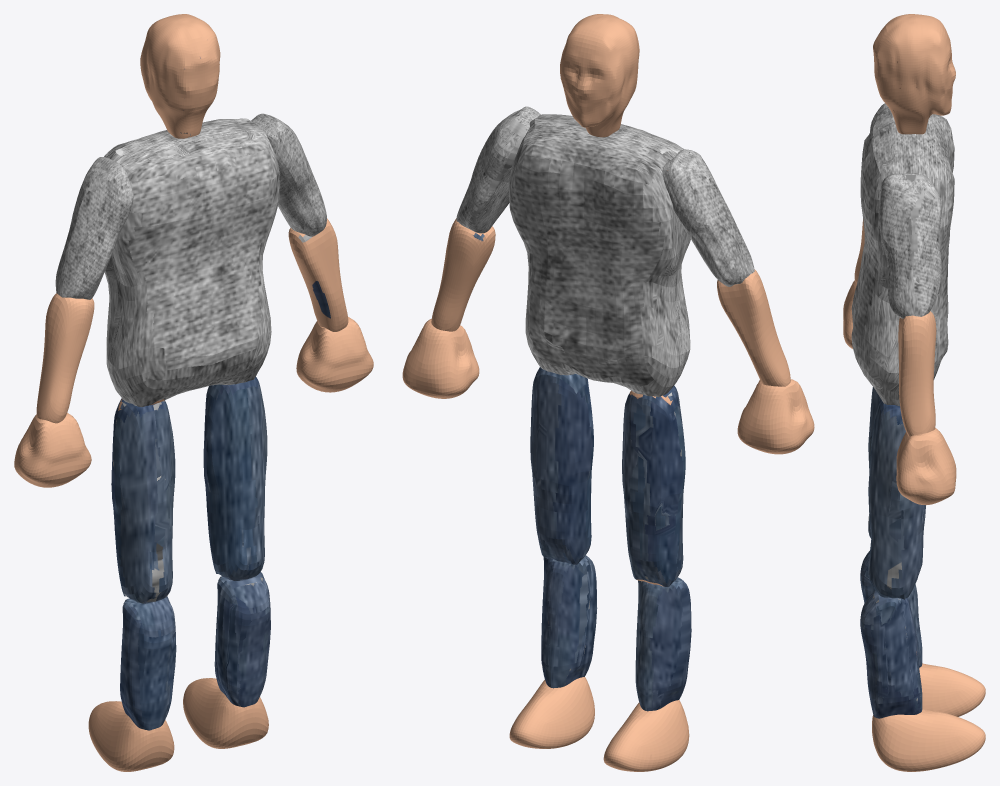
Rendered from mainCharacter.obj.
The picture shows the model from 3 angles, left to right: view 1: azimuth 30°, elevation 25°; view 2: azimuth 150°, elevation 25°; view 3: azimuth 270°, elevation 25°; orthographic projection.
Parts seen in each view (by area): view 1: Cube.007, Cube.001, Cube.001_Cube.017, Cube.016, Cube.006_Cube.021, Cube.002_Cube.018, Cube.004, Cube.008_Cube.022, Cube.010, Cube.011_Cube.024, Cube.003_Cube.019, Cube.009_Cube.023 (+2 smaller); view 2: Cube.007, Cube.001, Cube.001_Cube.017, Cube.016, Cube.002_Cube.018, Cube.006_Cube.021, Cube.004, Cube.010, Cube.003_Cube.019, Cube.005_Cube.020, Cube.009_Cube.023, Cube.011_Cube.024 (+2 smaller); view 3: Cube.007, Cube.001_Cube.017, Cube.016, Cube.010, Cube.004, Cube.003_Cube.019, Cube.015, Cube.009_Cube.023, Cube.005_Cube.020, Cube.002_Cube.018, Cube.011_Cube.024, Cube.001.
Boxes of the visible parts, bbox=[...] form: Cube.007: bbox=[104, 118, 279, 407]; Cube.001: bbox=[111, 398, 175, 603]; Cube.001_Cube.017: bbox=[203, 377, 267, 580]; Cube.016: bbox=[140, 14, 220, 138]; Cube.006_Cube.021: bbox=[55, 157, 133, 299]; Cube.002_Cube.018: bbox=[120, 596, 176, 730]; Cube.004: bbox=[214, 572, 270, 707]; Cube.008_Cube.022: bbox=[36, 293, 94, 423]; Cube.010: bbox=[251, 113, 326, 236]; Cube.011_Cube.024: bbox=[14, 413, 91, 487]; Cube.003_Cube.019: bbox=[183, 678, 268, 748]; Cube.009_Cube.023: bbox=[296, 317, 373, 392]; Cube.007: bbox=[509, 114, 690, 397]; Cube.001: bbox=[622, 385, 685, 586]; Cube.001_Cube.017: bbox=[530, 367, 593, 564]; Cube.016: bbox=[560, 14, 639, 137]; Cube.002_Cube.018: bbox=[635, 577, 691, 711]; Cube.006_Cube.021: bbox=[662, 149, 754, 286]; Cube.004: bbox=[541, 555, 597, 688]; Cube.010: bbox=[456, 106, 540, 233]; Cube.003_Cube.019: bbox=[509, 677, 594, 748]; Cube.005_Cube.020: bbox=[603, 700, 689, 771]; Cube.009_Cube.023: bbox=[402, 319, 479, 398]; Cube.011_Cube.024: bbox=[737, 379, 814, 454]; Cube.007: bbox=[851, 107, 954, 406]; Cube.001_Cube.017: bbox=[868, 399, 925, 599]; Cube.016: bbox=[873, 14, 955, 134]; Cube.010: bbox=[879, 173, 942, 318]; Cube.004: bbox=[860, 590, 922, 718]; Cube.003_Cube.019: bbox=[872, 709, 985, 771]; Cube.015: bbox=[898, 311, 936, 436]; Cube.009_Cube.023: bbox=[896, 428, 956, 505]; Cube.005_Cube.020: bbox=[919, 663, 985, 716]; Cube.002_Cube.018: bbox=[860, 551, 922, 667]; Cube.011_Cube.024: bbox=[843, 280, 856, 348]; Cube.001: bbox=[868, 387, 880, 537].
Bounding box in the file's own units: 3.01 × 5.63 × 1.01.
Materials: 3 (3 with a texture image).
